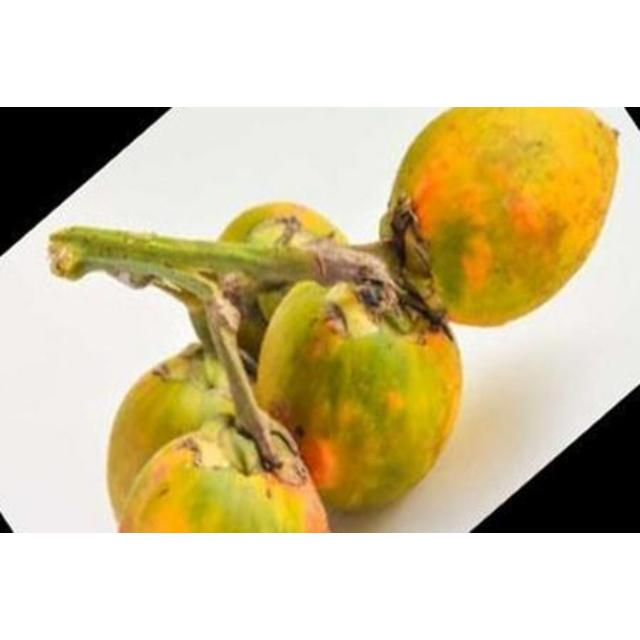good: (266, 275, 472, 513), (393, 108, 615, 326), (107, 343, 316, 525), (214, 203, 344, 355)
